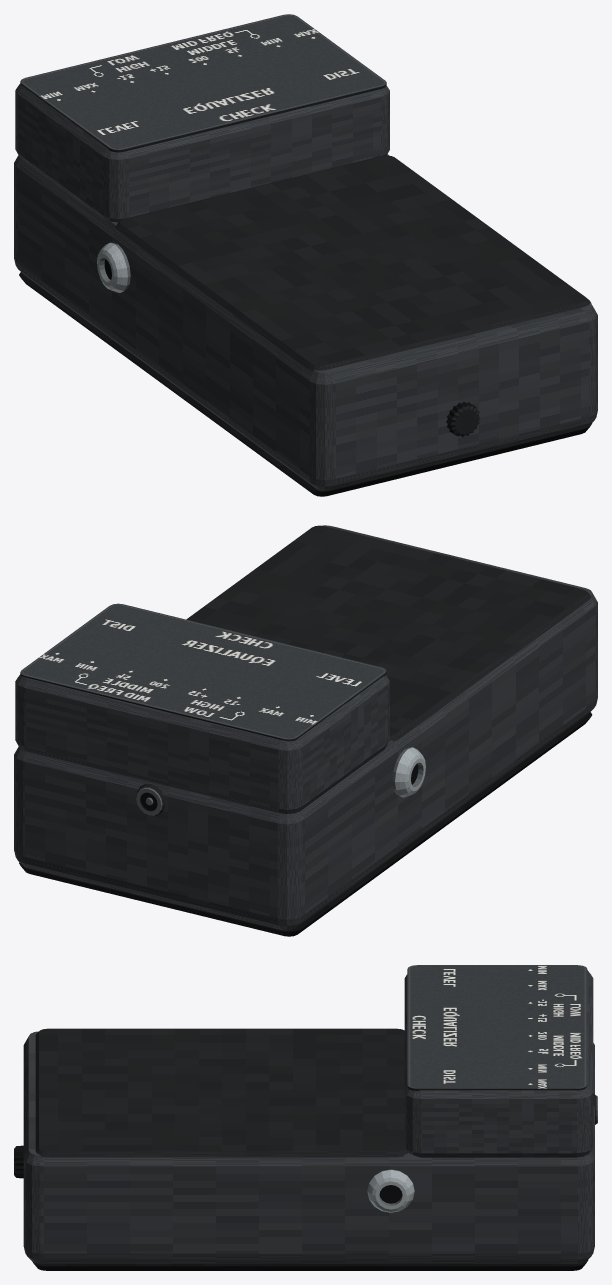
The model's file is body.obj.
3 views of the same model, one above another, from view 1: azimuth 30°, elevation 25°; view 2: azimuth 150°, elevation 25°; view 3: azimuth 270°, elevation 25° (orthographic). The views are drawn at different scales.
Visible parts, largest first — view 1: pedal; view 2: pedal; view 3: pedal.
Part boxes in pixels (<box>): pedal: <box>14,14,597,496</box>; pedal: <box>14,525,597,936</box>; pedal: <box>14,965,597,1270</box>.
Bounding box in the file's own units: 0.5305 × 0.3244 × 0.9381.
